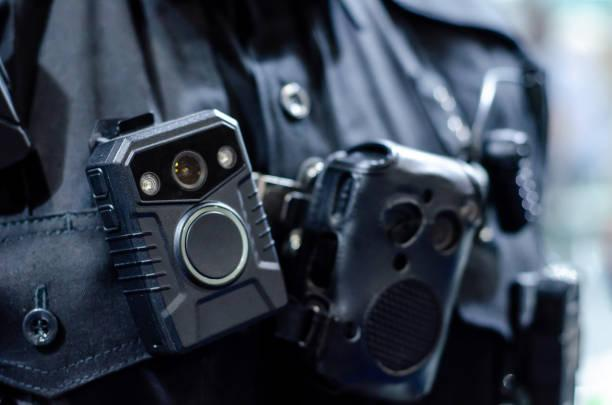camera: (84, 99, 293, 353)
